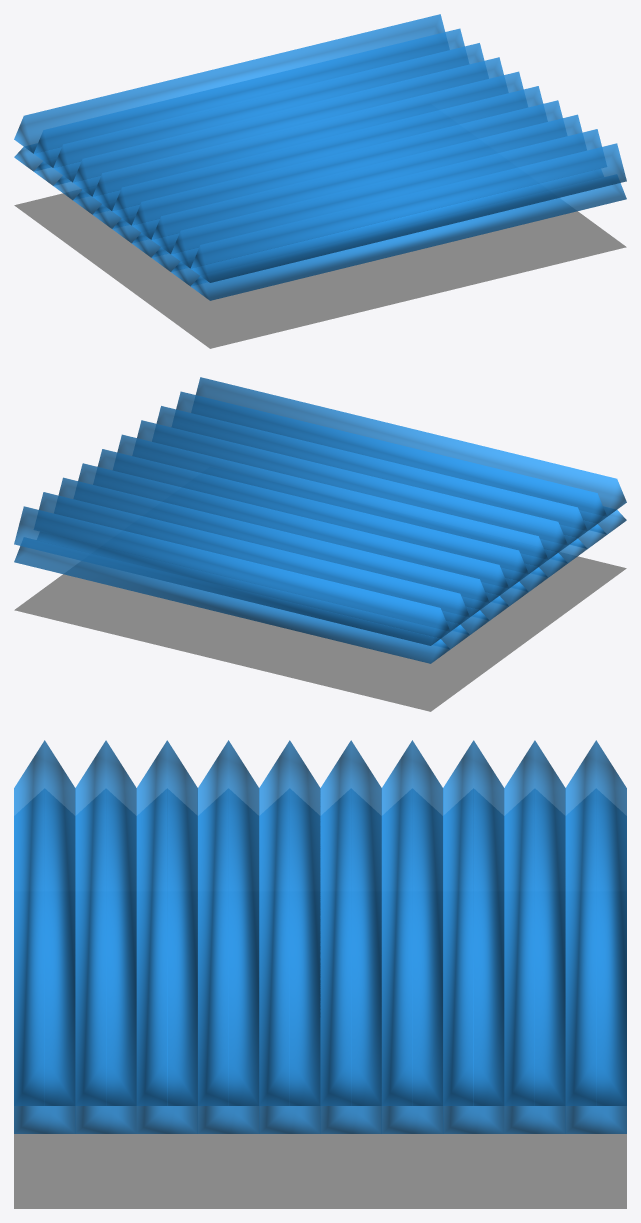
The model's file is MAN.obj.
3 renders of one model, top to bottom at view 1: azimuth 30°, elevation 25°; view 2: azimuth 150°, elevation 25°; view 3: azimuth 270°, elevation 25°, orthographic. The views are drawn at different scales.
Visible parts, largest first — view 1: Cylinder010, Plane001, Cylinder020; view 2: Cylinder010, Plane001, Cylinder020; view 3: Cylinder010, Plane001, Cylinder020.
Part boxes in pixels (box(x1,y1,x2,y2)): Cylinder010: box(14, 14, 626, 282); Plane001: box(14, 189, 626, 348); Cylinder020: box(14, 144, 626, 300); Cylinder010: box(14, 377, 626, 645); Plane001: box(14, 552, 626, 711); Cylinder020: box(14, 507, 626, 663); Cylinder010: box(14, 740, 626, 1105); Plane001: box(14, 1106, 626, 1208); Cylinder020: box(14, 789, 626, 1133).
Size of the model in its own units: 614 by 136 by 500.
